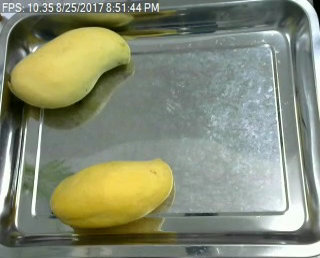Mango: (8, 22, 131, 113), (49, 154, 168, 230)
